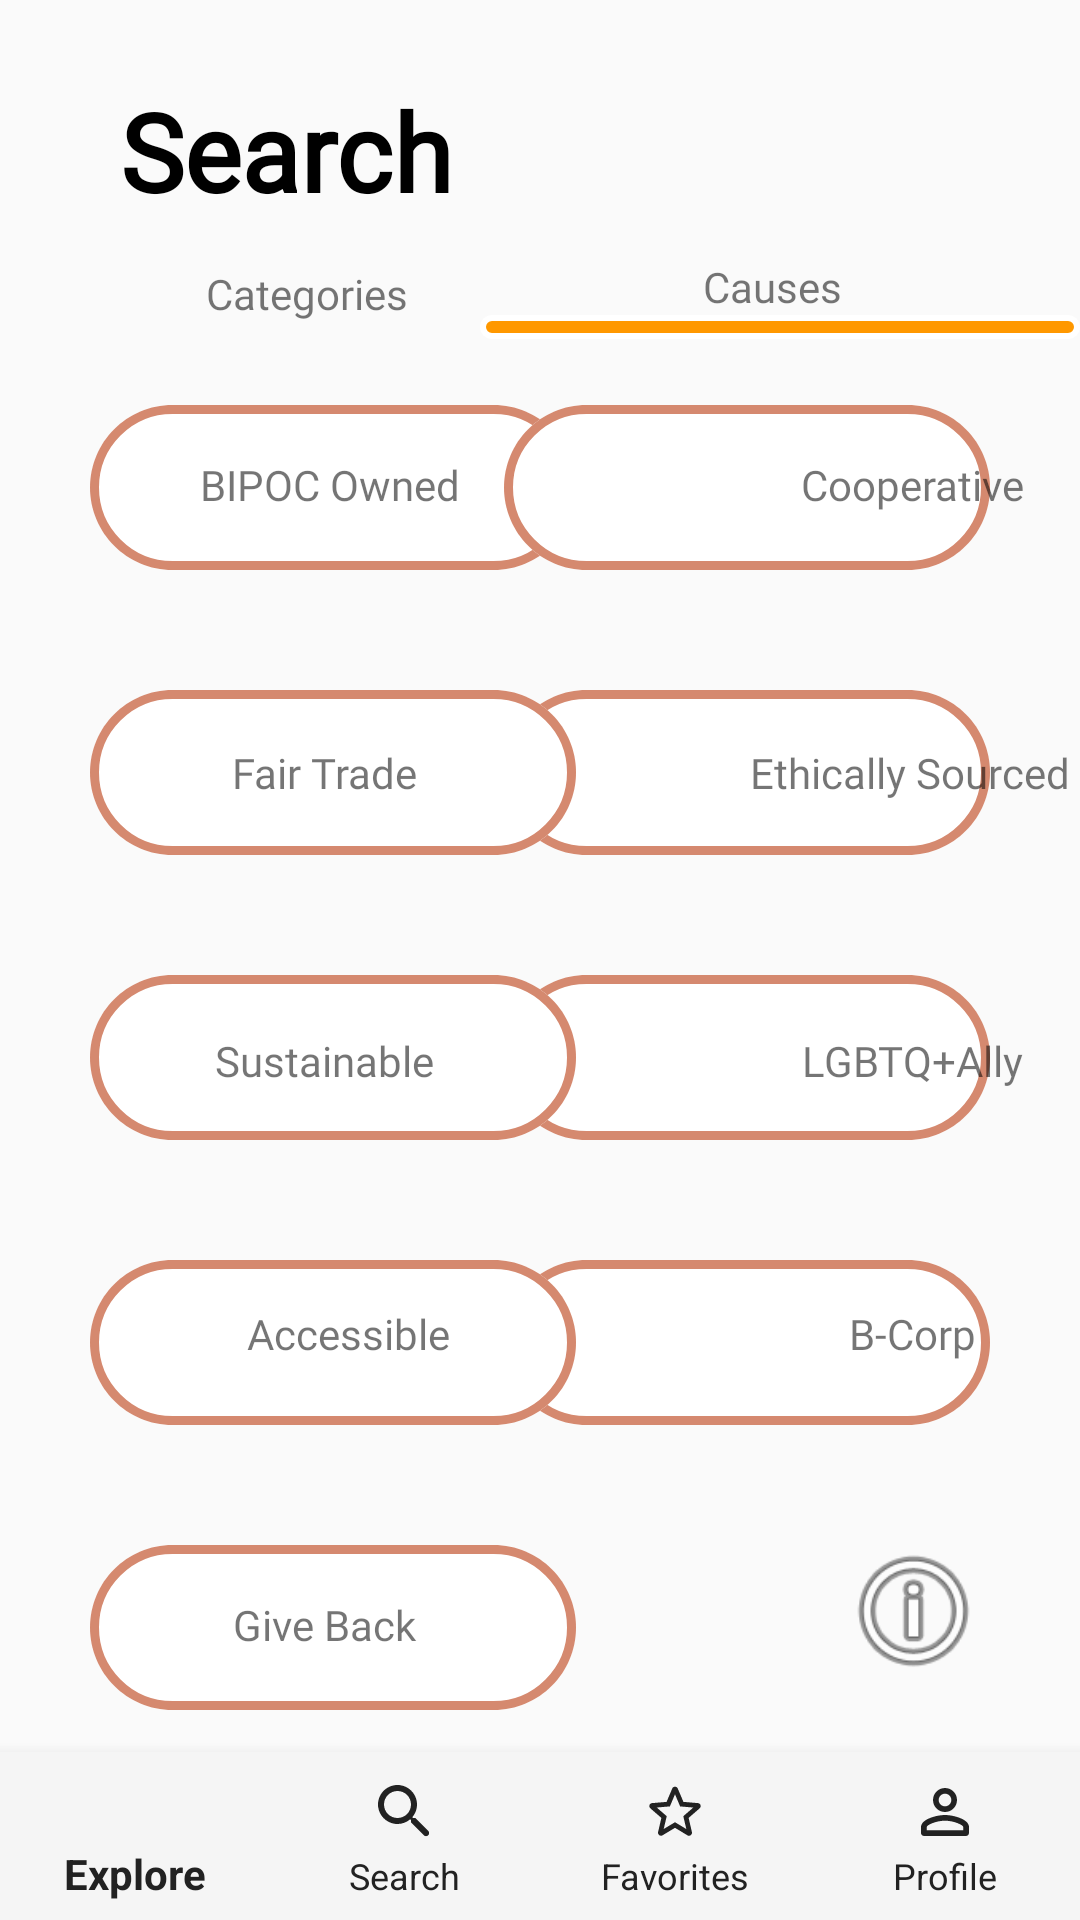

Named icons in this screenshot (1080px x 1920px) and their bounding boxes, (x1, y1, x2, y2):
info details: (858, 1556, 969, 1666)
